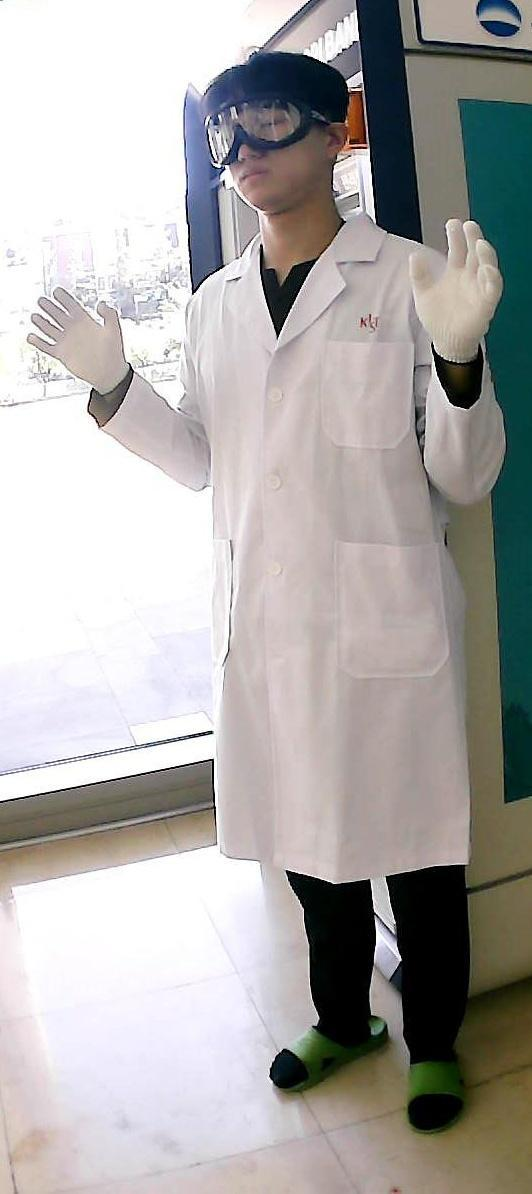lab_coat: (192, 271, 418, 876)
